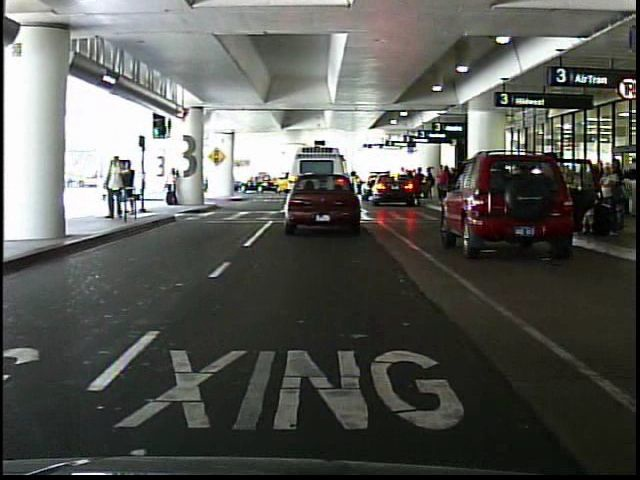person: (103, 152, 128, 224), (123, 157, 139, 219), (163, 168, 182, 210), (436, 164, 452, 204)
